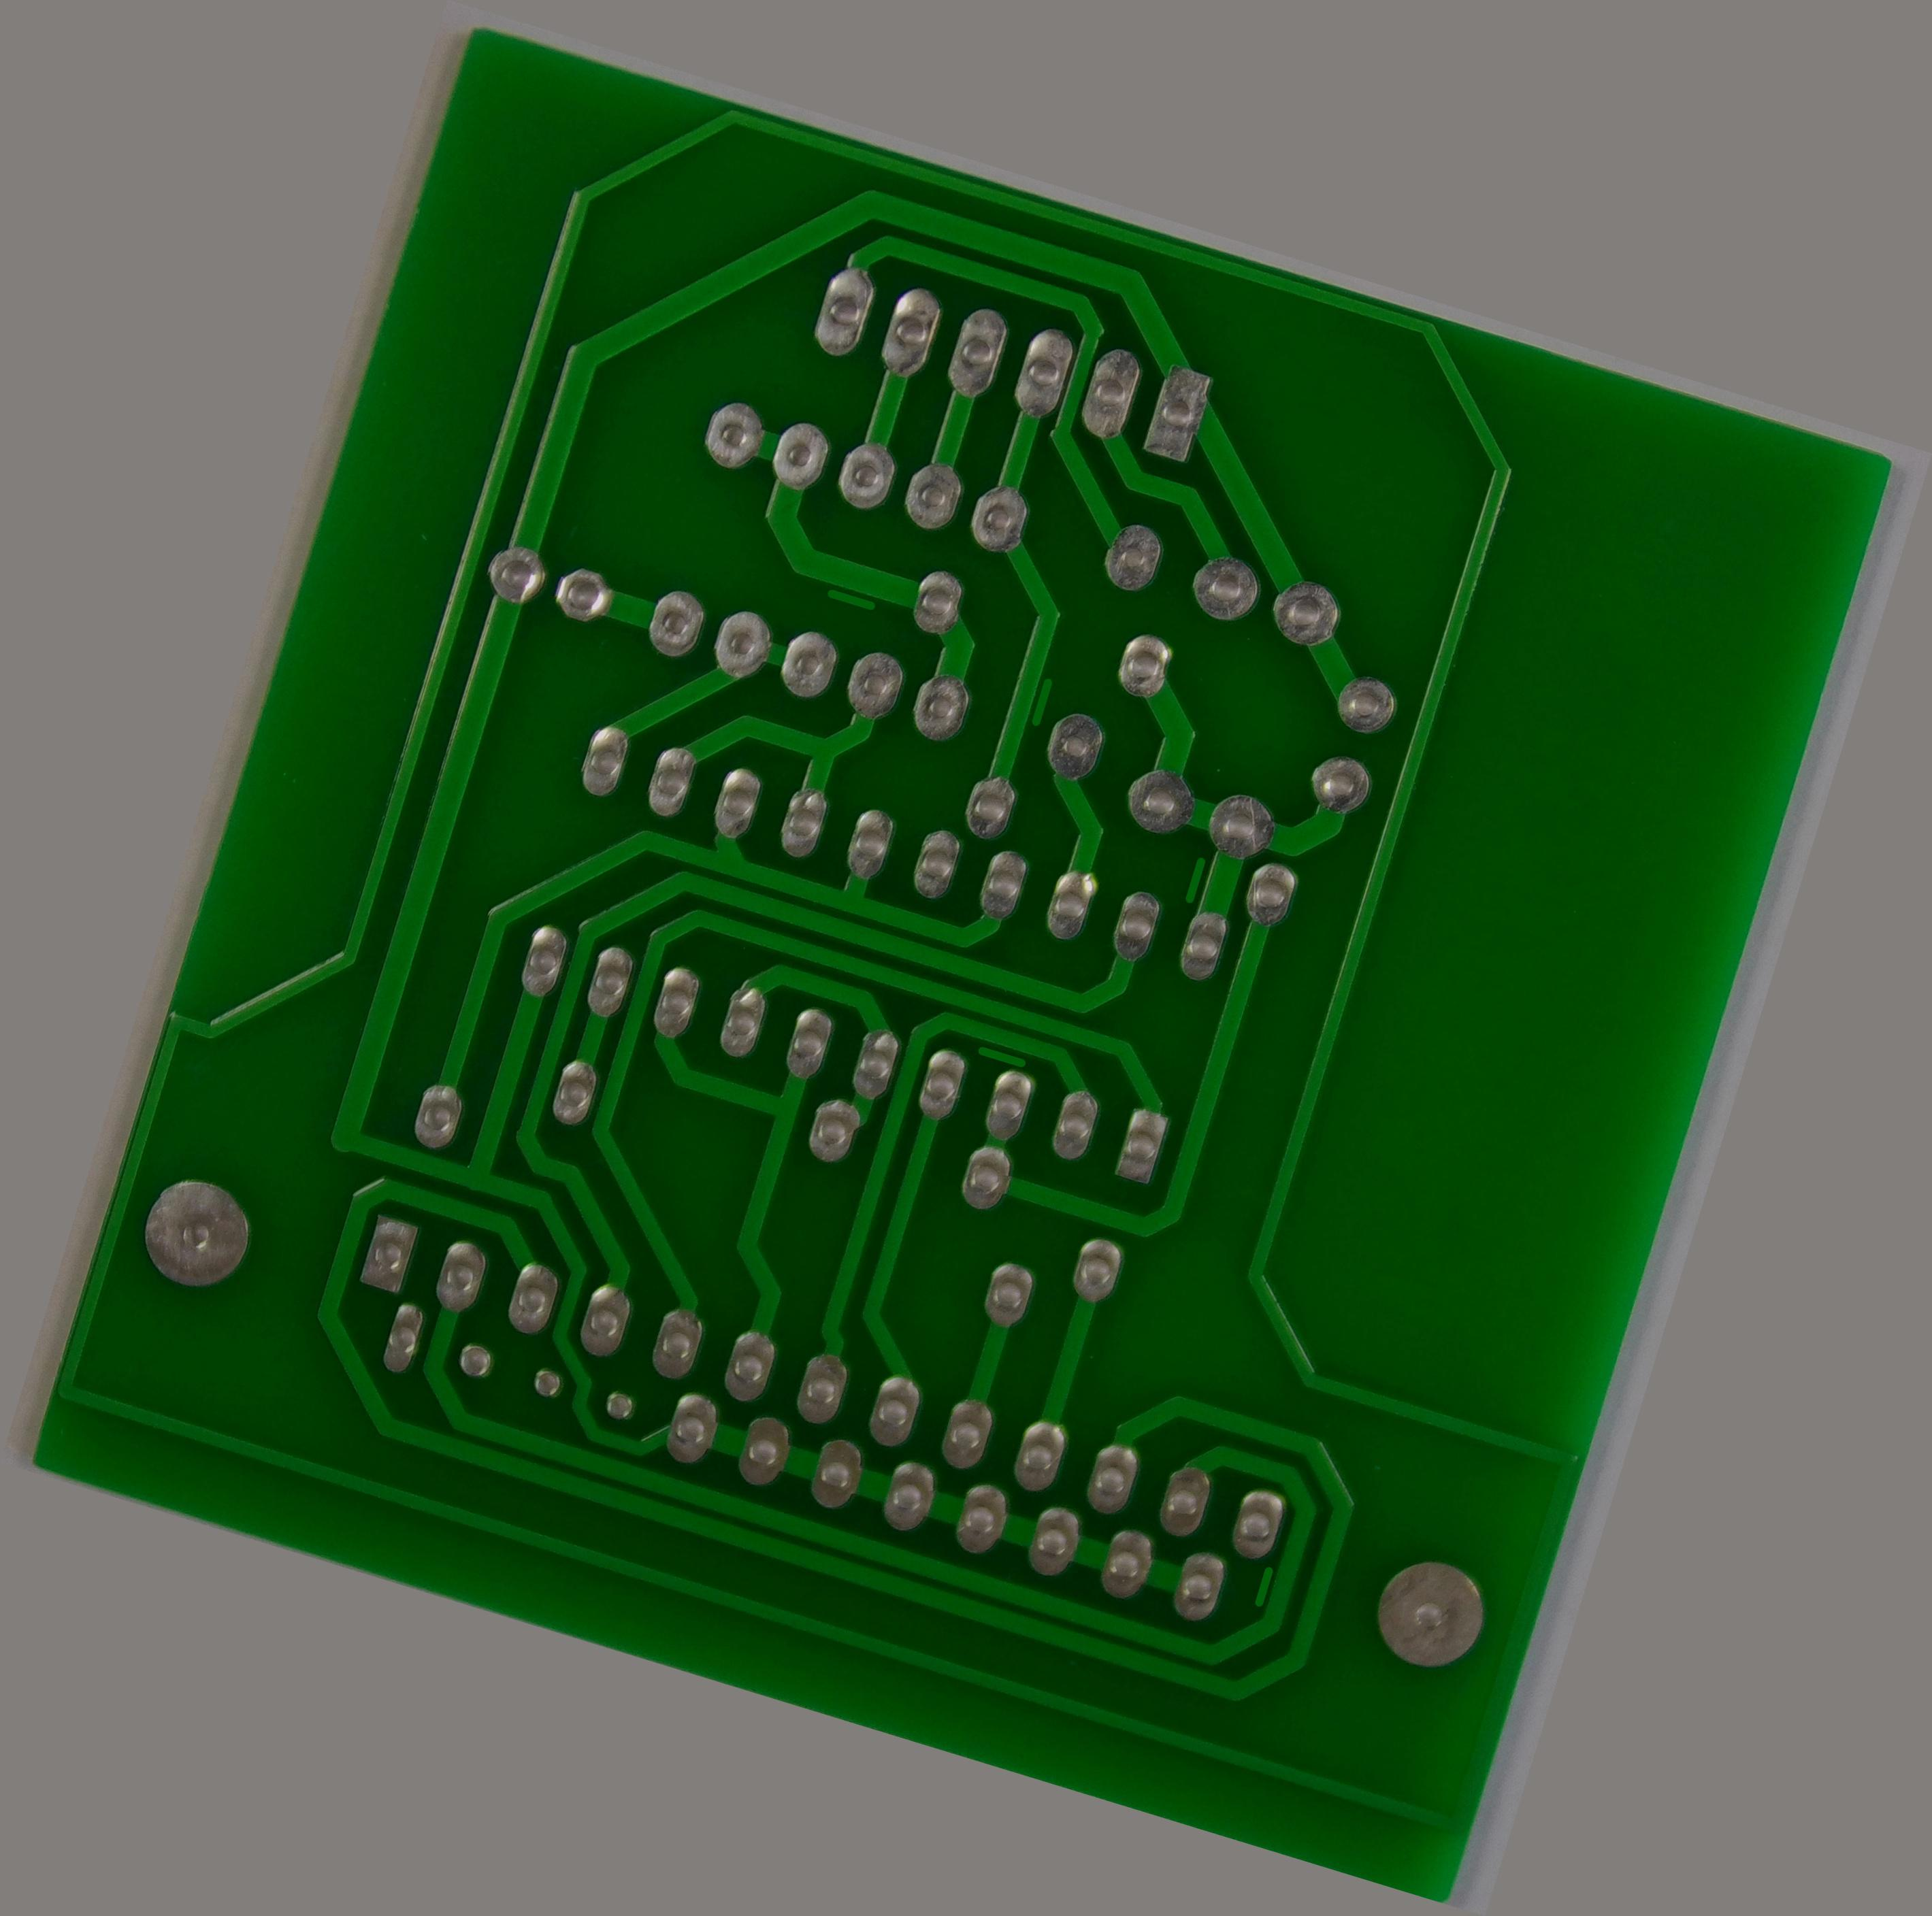spurious_copper: (812, 570, 898, 626), (1013, 661, 1067, 737), (965, 1030, 1041, 1079), (1237, 1555, 1290, 1621), (1170, 847, 1218, 916)
